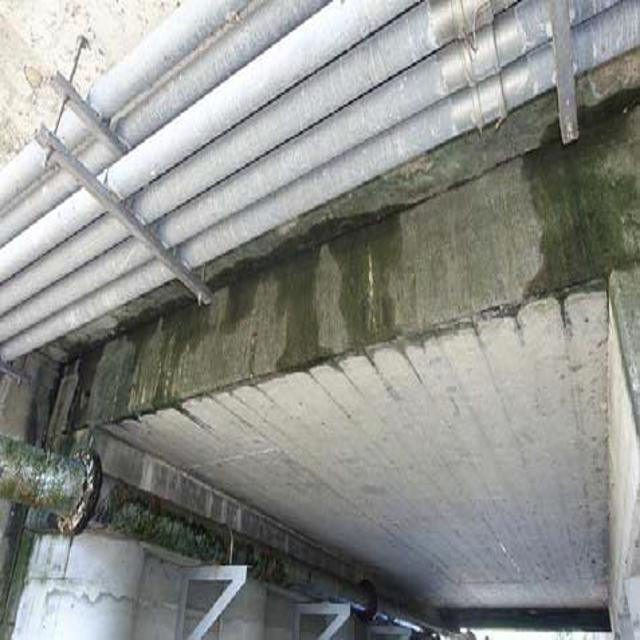leakage: (184, 215, 444, 362), (528, 104, 640, 327)
